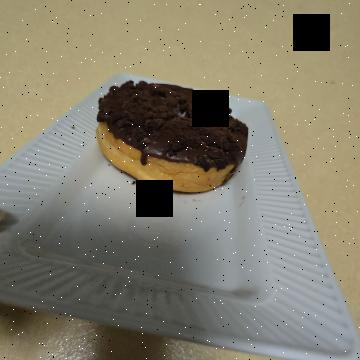doughnut: (76, 99, 216, 278)
